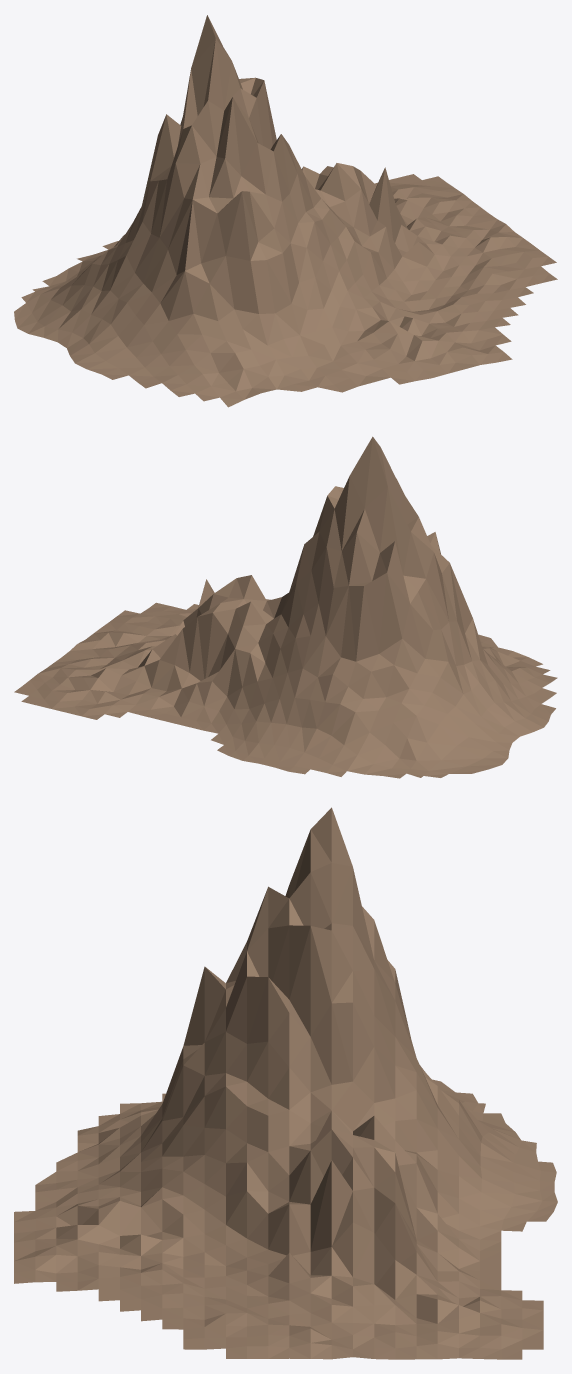
File: Mountain_01.fbx
3 renders of one model, top to bottom at view 1: azimuth 30°, elevation 25°; view 2: azimuth 150°, elevation 25°; view 3: azimuth 270°, elevation 25°, orthographic. The views are drawn at different scales.
Visible parts, largest first — view 1: Mountain_01; view 2: Mountain_01; view 3: Mountain_01.
Boxes of the visible parts, x1,y1,x2,y2 form: Mountain_01: (14, 15, 557, 407); Mountain_01: (14, 436, 557, 778); Mountain_01: (14, 807, 557, 1359).
Size of the model in its own units: 14030 by 8489 by 11234.
